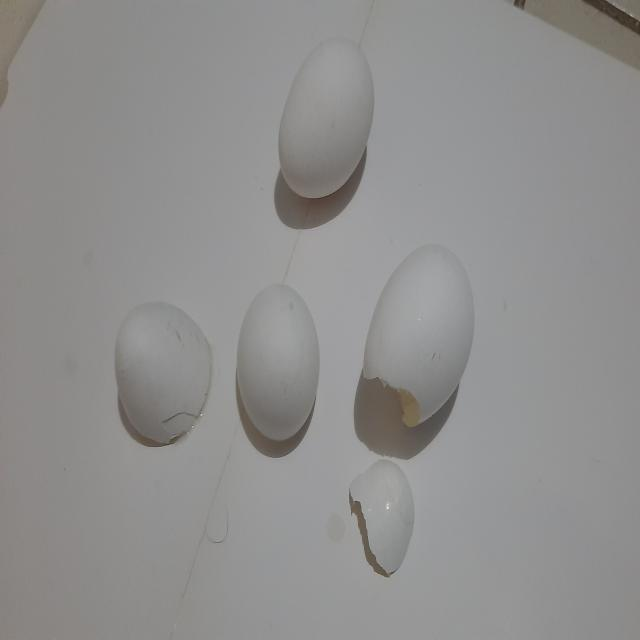egg shell: (358, 235, 476, 433), (274, 28, 381, 216), (109, 294, 218, 456), (234, 278, 322, 462), (342, 449, 422, 588)
